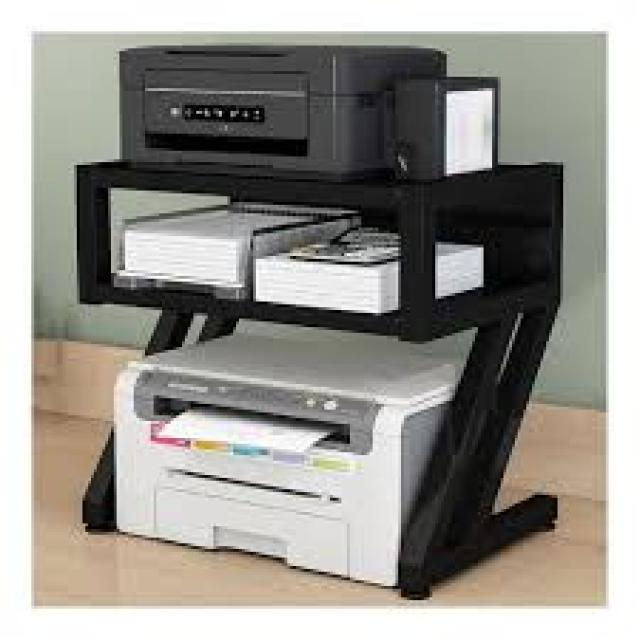printer: (108, 321, 478, 589), (116, 43, 446, 182)
